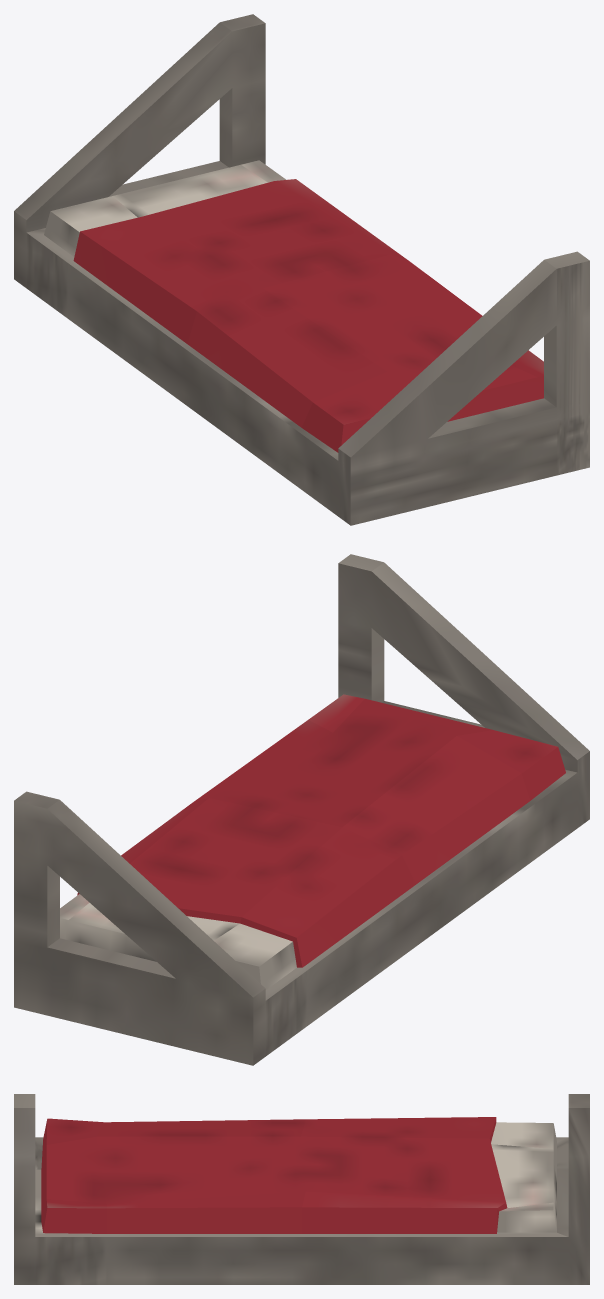
File: bed 1.glb
3 views of the same model, one above another, from view 1: azimuth 30°, elevation 25°; view 2: azimuth 150°, elevation 25°; view 3: azimuth 270°, elevation 25° (orthographic). The views are drawn at different scales.
Visible parts, largest first — view 1: Bed 1; view 2: Bed 1; view 3: Bed 1.
Part boxes in pixels (bbox=[...]): Bed 1: bbox=[14, 14, 589, 525]; Bed 1: bbox=[14, 554, 589, 1065]; Bed 1: bbox=[14, 1094, 589, 1284].
Bounding box in the file's own units: 1.14 × 0.9433 × 2.78.
Materials: 1 (1 with a texture image).
